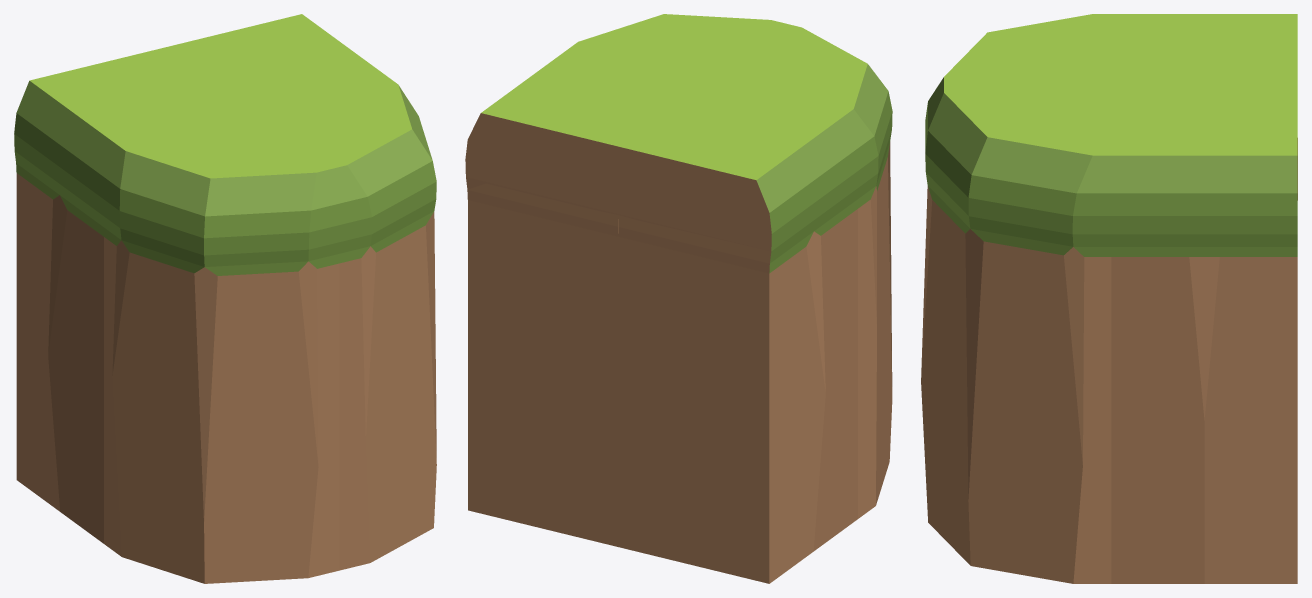
Rendered from Single_corner.fbx.
The picture shows the model from 3 angles, left to right: view 1: azimuth 30°, elevation 25°; view 2: azimuth 150°, elevation 25°; view 3: azimuth 270°, elevation 25°; orthographic projection. The views are drawn at different scales.
Parts seen in each view (by area): view 1: Cube.145; view 2: Cube.145; view 3: Cube.145.
Boxes of the visible parts, x1=… form: Cube.145: x1=14, y1=14, x2=436, y2=583; Cube.145: x1=465, y1=14, x2=892, y2=583; Cube.145: x1=921, y1=14, x2=1297, y2=583.
Bounding box in the file's own units: 0.8517 × 0.8101 × 1.
